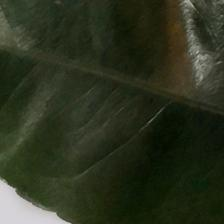healthy: (5, 0, 224, 224)
